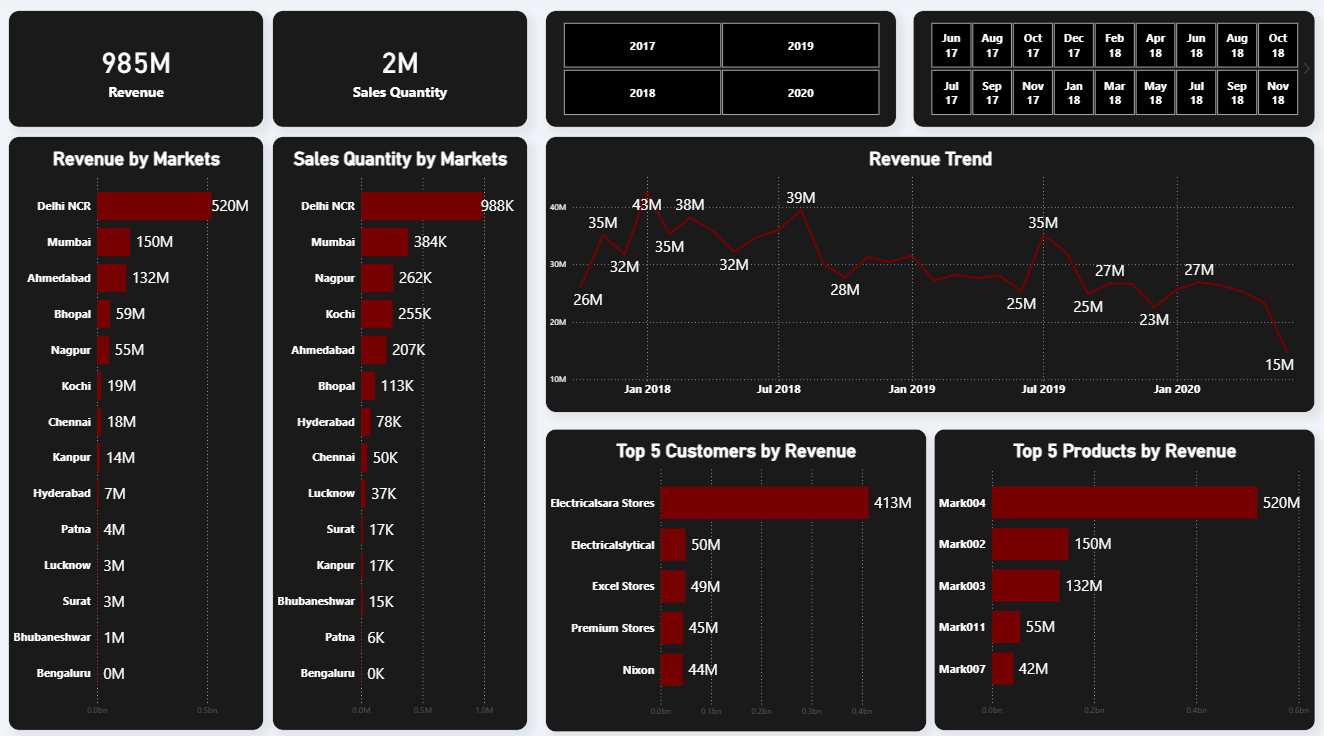

The dashboard page shown, as its layout file describes it:
{"tool":"powerbi","page":{"name":"Sales Data Analysis","canvas":[1920,1080],"ordinal":0},"visuals":[{"type":"card","fields":{"Values":["BaseMeasures.Revenue"]},"box":[23.6,23.6,365.3,167.6],"z":0},{"type":"card","fields":{"Values":["BaseMeasures.Sales Quantity"]},"box":[401.8,23.6,365.3,167.6],"z":1000},{"type":"barChart","title":"Revenue by Markets","fields":{"Y":["BaseMeasures.Revenue"],"Category":["sales markets.markets_name"]},"box":[23.6,204.1,365.3,850.8],"z":2000},{"type":"barChart","title":"Sales Quantity by Markets","fields":{"Y":["BaseMeasures.Sales Quantity"],"Category":["sales markets.markets_name"]},"box":[401.8,204.1,365.3,850.8],"z":3000},{"type":"slicer","fields":{"Values":["sales date.year"]},"box":[792.8,23.6,502.8,167.6],"z":4000},{"type":"slicer","fields":{"Values":["sales date.cy_date"]},"box":[1319.2,23.6,575.8,167.6],"z":5000},{"type":"barChart","title":"Top 5 Customers by Revenue","fields":{"Y":["BaseMeasures.Revenue"],"Category":["sales customers.custmer_name"]},"box":[792.8,623.1,545.7,434],"z":6000},{"type":"barChart","title":"Top 5 Products by Revenue","fields":{"Y":["BaseMeasures.Revenue"],"Category":["sales markets.markets_code"]},"box":[1349.3,623.1,545.7,431.9],"z":7000},{"type":"lineChart","title":"Revenue Trend","fields":{"Category":["sales date.cy_date"],"Y":["BaseMeasures.Revenue"]},"box":[792.8,204.1,1102.2,395.3],"z":8000}]}

Visuals, with their boxes in screenshot pixels (x1, y1, x2, y2), scaled from the page's 1920x1080 canvas onto the 1324x736 screenshot:
card - BaseMeasures.Revenue: Rect(16, 16, 268, 130)
card - BaseMeasures.Sales Quantity: Rect(277, 16, 529, 130)
"Revenue by Markets" barChart: Rect(16, 139, 268, 719)
"Sales Quantity by Markets" barChart: Rect(277, 139, 529, 719)
slicer - sales date.year: Rect(547, 16, 893, 130)
slicer - sales date.cy_date: Rect(910, 16, 1307, 130)
"Top 5 Customers by Revenue" barChart: Rect(547, 425, 923, 720)
"Top 5 Products by Revenue" barChart: Rect(930, 425, 1307, 719)
"Revenue Trend" lineChart: Rect(547, 139, 1307, 408)
